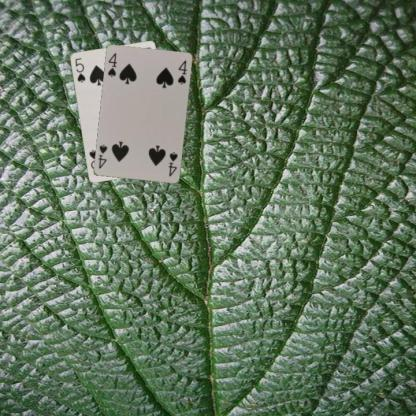4s: (105, 51, 119, 78), (166, 150, 179, 178)
5s: (72, 55, 87, 84)
